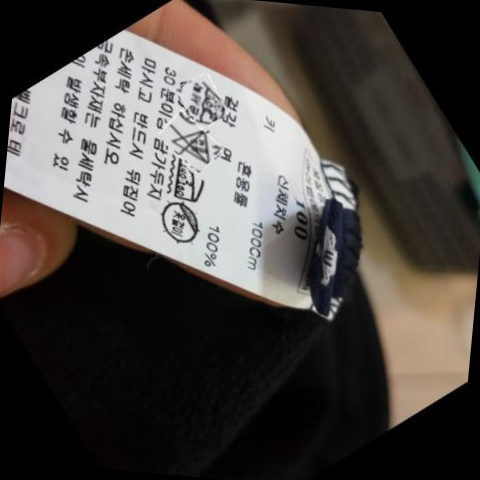hand_wash: (183, 76, 227, 125)
iron_medium: (171, 162, 211, 203)
line_dry_in_shade: (156, 197, 207, 248)
non_chlorine_bleach: (169, 125, 215, 163)
